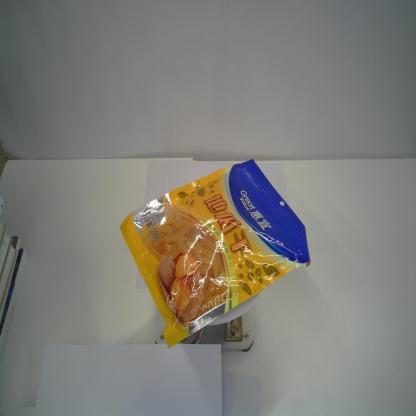Dried Fruit: (119, 158, 312, 350)
